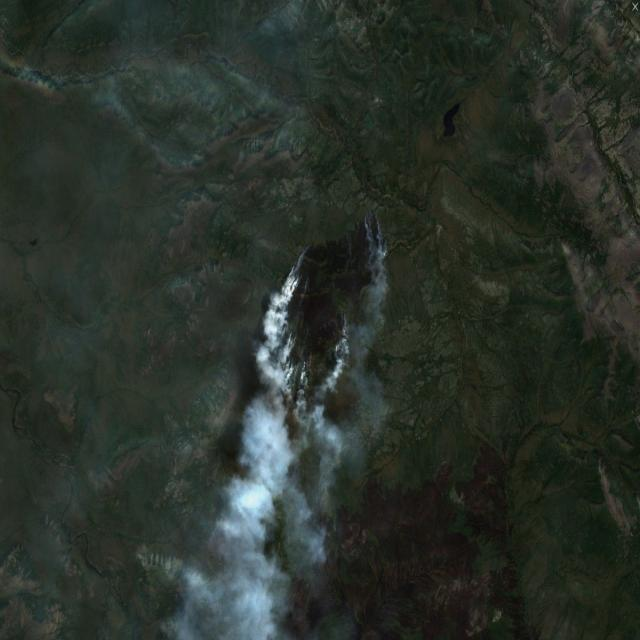fire: (270, 206, 390, 376)
